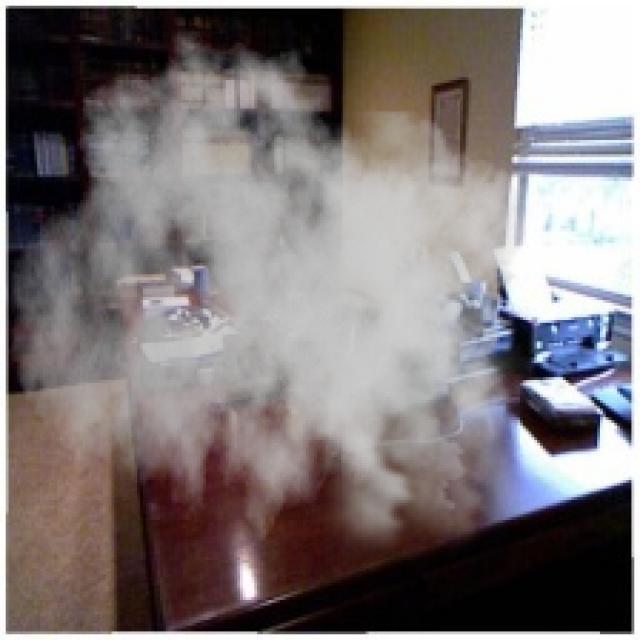Smoke: (8, 29, 543, 578)
